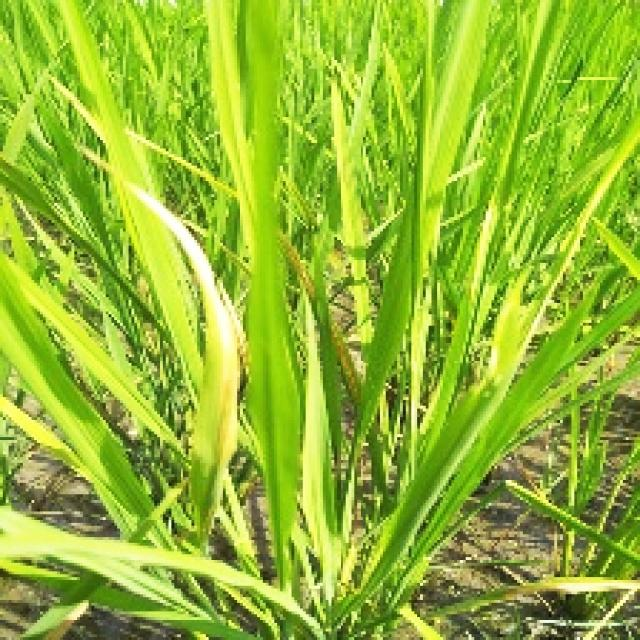unhealth: (77, 146, 241, 542)
